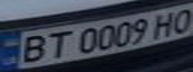0: (75, 25, 100, 54), (97, 21, 118, 52), (115, 19, 136, 47)
9: (127, 15, 154, 44)
B: (9, 33, 54, 65)
H: (148, 9, 184, 38)
O: (166, 6, 193, 34)
T: (39, 29, 75, 60)
